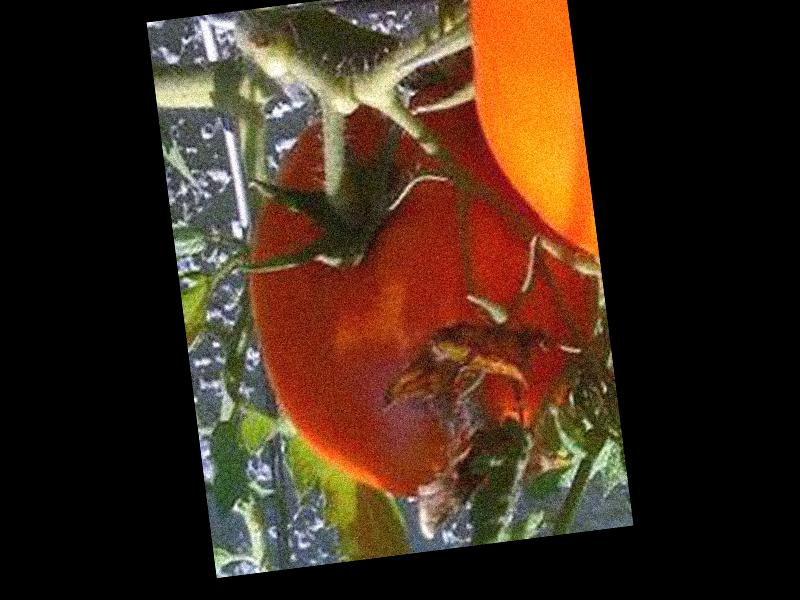Tomato: (226, 76, 615, 518)
